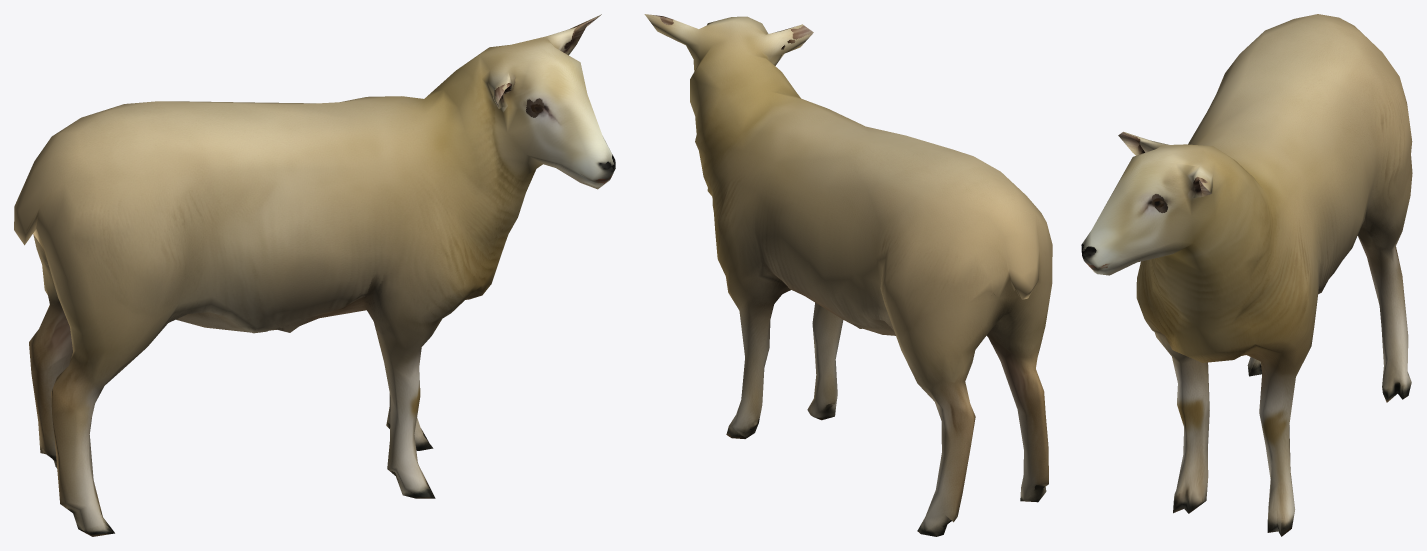
Rendered from sheep_sheared_single_1500.glb.
3 renders of one model, left to right at view 1: azimuth 30°, elevation 25°; view 2: azimuth 150°, elevation 25°; view 3: azimuth 270°, elevation 25°, orthographic. The views are drawn at different scales.
Size of the model in its own units: 0.8877 by 0.6986 by 0.5084.
Materials: 1 (1 with a texture image).
